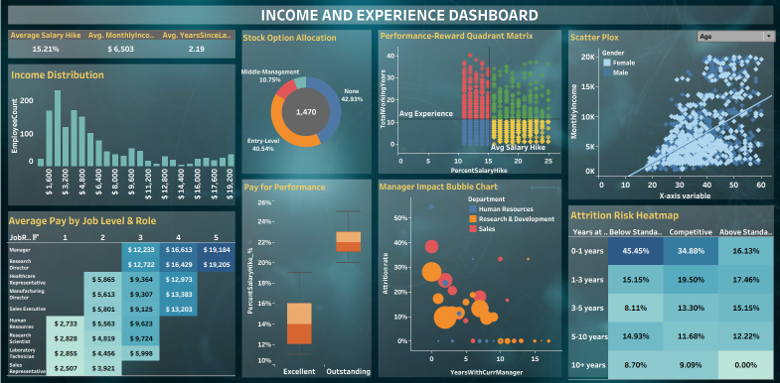

The page's visual inventory and layout, read from the dashboard file:
{"tool":"tableau","page":{"name":"INCOME AND EXPERIENCE","canvas":[1620,800],"ordinal":0},"visuals":[{"type":"image","param":"Image/KTDN Nhóm 4 (6).png","box":[8,8,1604,784]},{"type":"worksheet","title":"Sheet 28","mark":"Automatic","box":[436,17,789,41]},{"type":"worksheet","title":"Performance-Reward Quadrant Matrix","mark":"Automatic","rows":["TotalWorkingYears"],"cols":["PercentSalaryHike"],"box":[784,69,367,296]},{"type":"worksheet","title":"Scatter Plox","mark":"Automatic","rows":["MonthlyIncome"],"cols":["Calculation_2118266745819174"],"box":[1167,72,410,346]},{"type":"worksheet","title":"KPI(2)","mark":"Automatic","box":[39,73,456,57]},{"type":"worksheet","title":"Stock Option Allocation","mark":"Pie","rows":["Calculation_2118265472045066","Calculation_2118265472045066"],"box":[508,73,262,293]},{"type":"parameter","param":"[Parameters].[Parameter 7]","box":[1425,74,160,24]},{"type":"legend","title":"Scatter Plox","param":"[federated.1vb3wkh14cl6ws15iny691sp7f6z].[none:Gender:nk]","box":[1235,110,99,61]},{"type":"worksheet","title":"Income Distribution","mark":"Automatic","rows":["EmployeeCount"],"cols":["MonthlyIncome (bin)"],"box":[41,145,455,283]},{"type":"worksheet","title":"Manager Impact Bubble Chart","mark":"Circle","rows":["Calculation_2118265450119170"],"cols":["YearsWithCurrManager"],"box":[782,373,373,399]},{"type":"worksheet","title":"Pay for Performance","mark":"Circle","rows":["Calculation_2118266886770728"],"cols":["PerformanceRating"],"box":[510,374,264,399]},{"type":"legend","title":"Manager Impact Bubble Chart","param":"[federated.1vb3wkh14cl6ws15iny691sp7f6z].[none:Department:nk]","box":[965,405,186,82]},{"type":"worksheet","title":"Attrition Risk Heatmap","mark":"Square","rows":["Calculation_2118265574985740"],"cols":["Calculation_2118266742579235"],"box":[1167,428,414,350]},{"type":"worksheet","title":"Average Pay by Job Level & Role","mark":"Square","rows":["JobRole"],"cols":["JobLevel"],"box":[36,439,461,332]}]}

Visuals, with their boxes in screenshot pixels (x1, y1, x2, y2), scaled from the page's 1620x800 canvas onto the 780x383 screenshot:
image: left=4, top=4, right=776, bottom=379
"Sheet 28" worksheet: left=210, top=8, right=590, bottom=28
"Performance-Reward Quadrant Matrix" worksheet: left=377, top=33, right=554, bottom=175
"Scatter Plox" worksheet: left=562, top=34, right=759, bottom=200
"KPI(2)" worksheet: left=19, top=35, right=238, bottom=62
"Stock Option Allocation" worksheet (Pie marks): left=245, top=35, right=371, bottom=175
parameter: left=686, top=35, right=763, bottom=47
"Scatter Plox" legend: left=595, top=53, right=642, bottom=82
"Income Distribution" worksheet: left=20, top=69, right=239, bottom=205
"Manager Impact Bubble Chart" worksheet (Circle marks): left=377, top=179, right=556, bottom=370
"Pay for Performance" worksheet (Circle marks): left=246, top=179, right=373, bottom=370
"Manager Impact Bubble Chart" legend: left=465, top=194, right=554, bottom=233
"Attrition Risk Heatmap" worksheet (Square marks): left=562, top=205, right=761, bottom=372
"Average Pay by Job Level & Role" worksheet (Square marks): left=17, top=210, right=239, bottom=369
